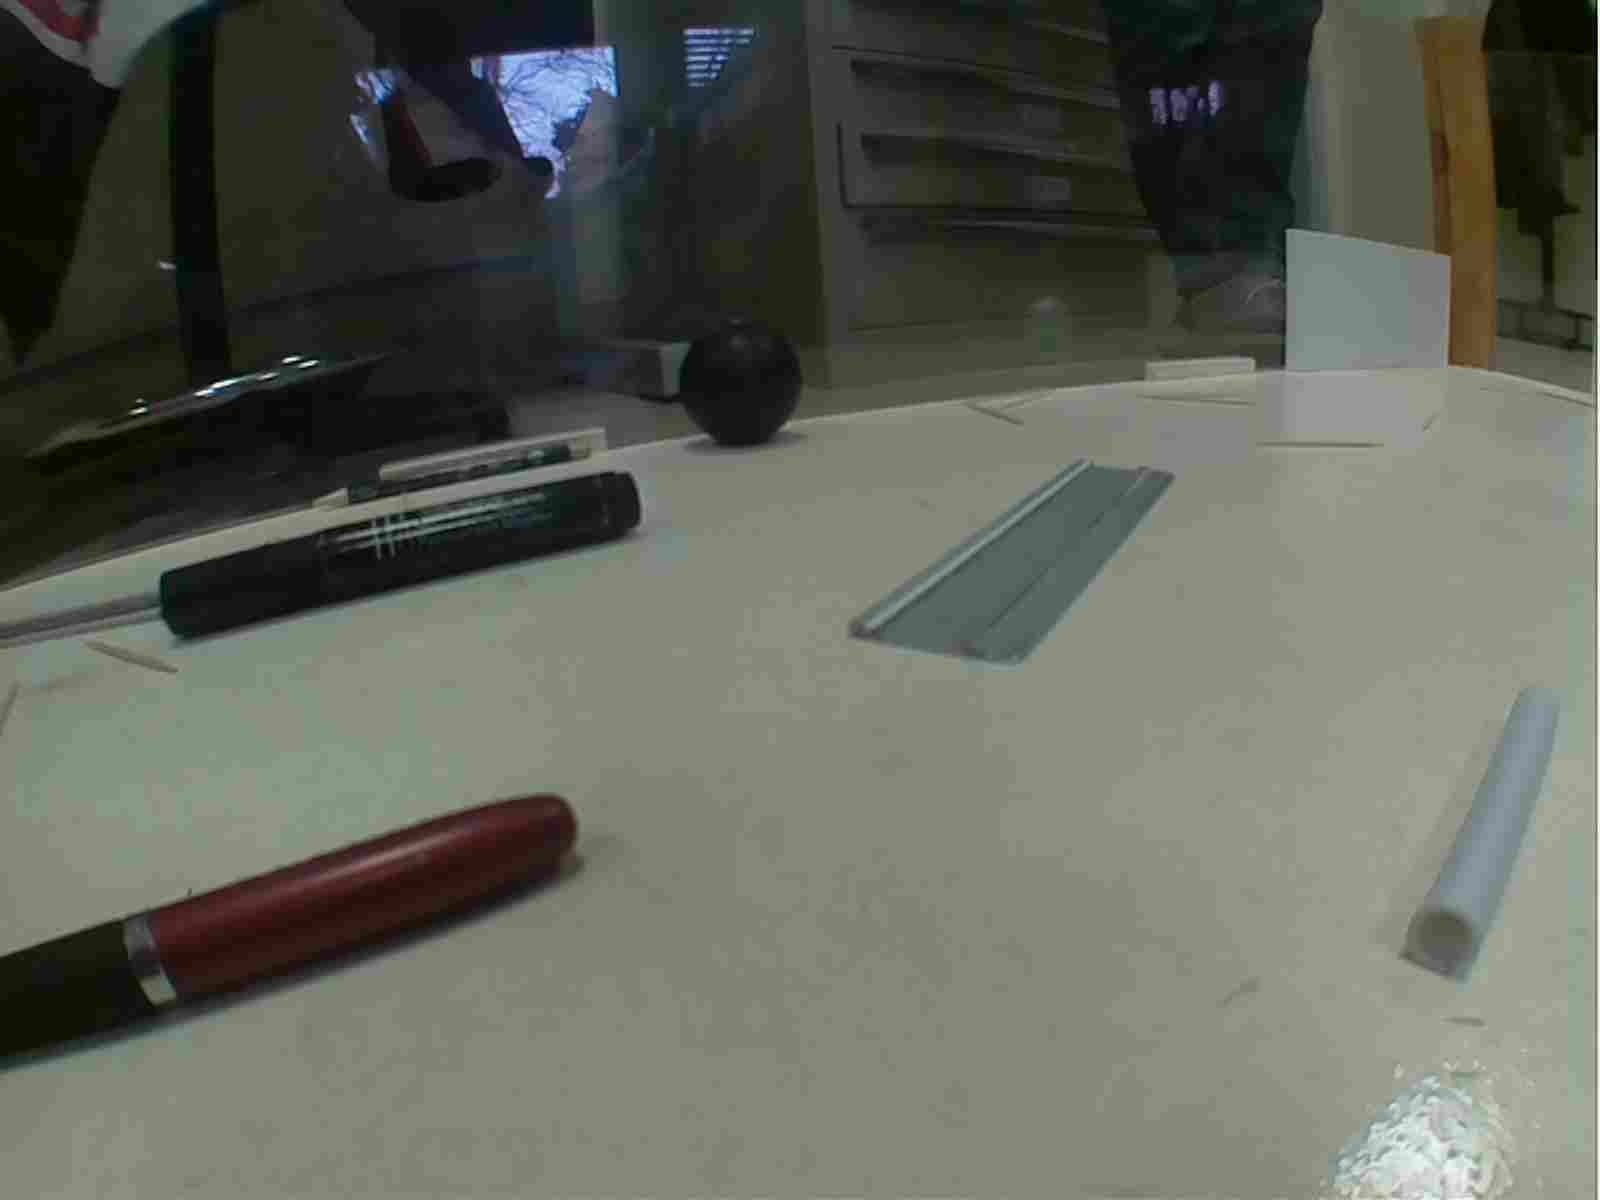nera: (677, 319, 813, 444)
